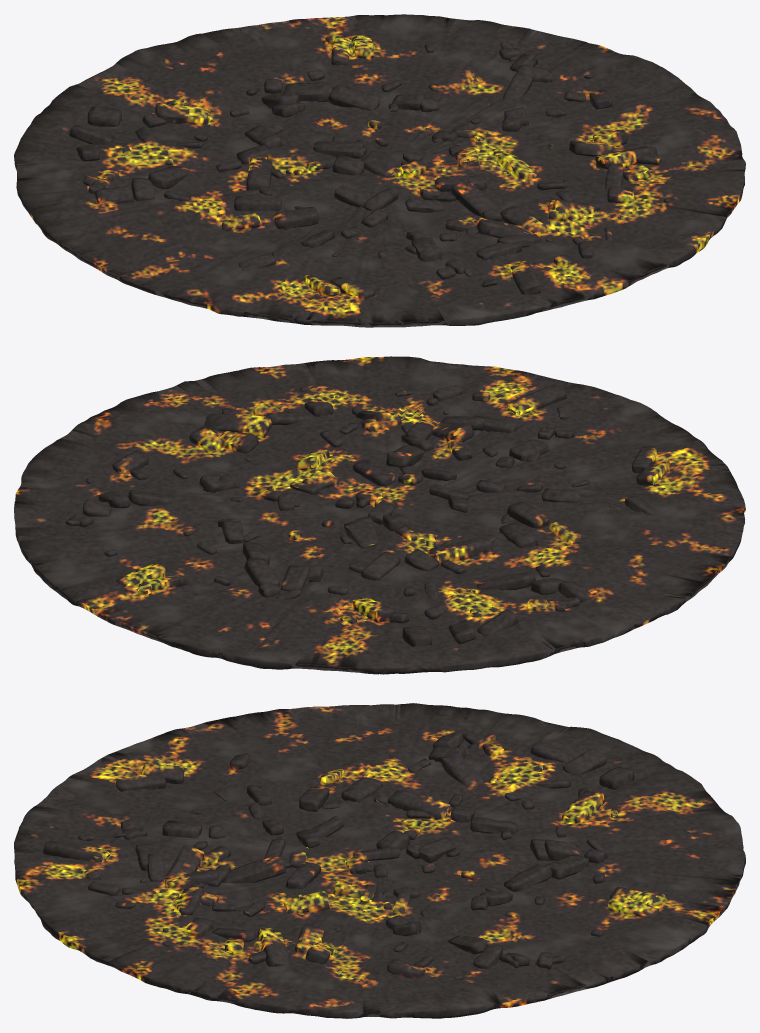
File: ground.glb
3 views of the same model, one above another, from view 1: azimuth 30°, elevation 25°; view 2: azimuth 150°, elevation 25°; view 3: azimuth 270°, elevation 25° (orthographic).
Visible parts, largest first — view 1: AR_ground; view 2: AR_ground; view 3: AR_ground.
Boxes of the visible parts, x1,y1,x2,y2 form: AR_ground: [14, 14, 745, 327]; AR_ground: [14, 356, 745, 674]; AR_ground: [14, 703, 745, 1018].
Bounding box in the file's own units: 3.6 × 0.1495 × 3.6.
1 material, 1 textured.
